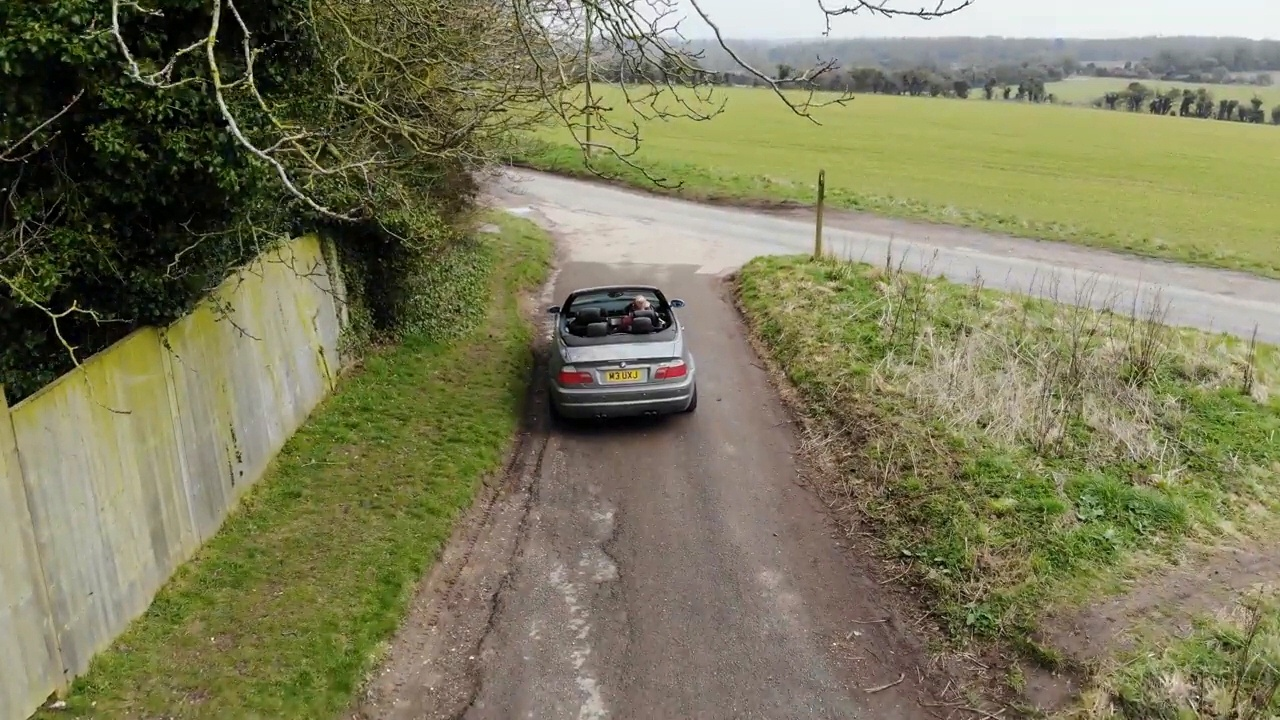araba: (547, 283, 700, 418)
